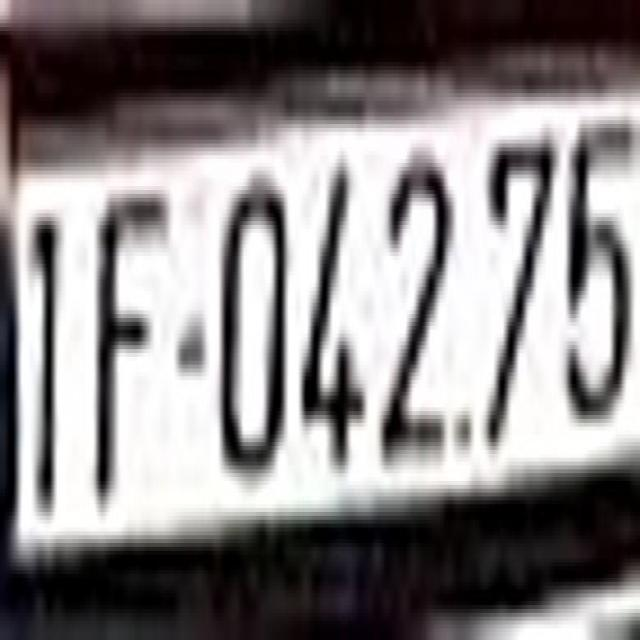0: (217, 143, 284, 504)
1: (22, 182, 72, 516)
2: (376, 109, 449, 478)
4: (299, 128, 362, 496)
5: (561, 86, 630, 438)
7: (484, 101, 550, 458)
F: (92, 166, 164, 508)
